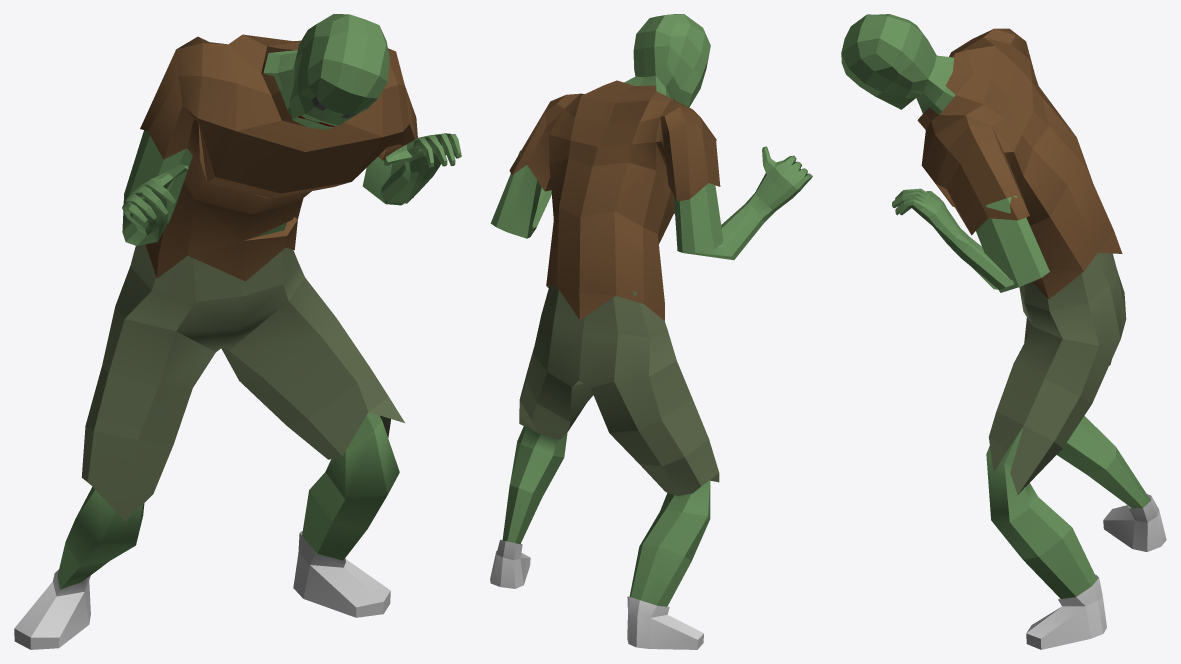
File: ZombieAttack(55).obj
3 views of the same model, side by side, from view 1: azimuth 30°, elevation 25°; view 2: azimuth 150°, elevation 25°; view 3: azimuth 270°, elevation 25° (orthographic). The views are drawn at different scales.
Visible parts, largest first — view 1: Object001; view 2: Object001; view 3: Object001.
Part boxes in pixels (<box>): Object001: <box>14,14,461,649</box>; Object001: <box>490,14,812,649</box>; Object001: <box>841,14,1166,649</box>.
Bounding box in the file's own units: 26.81 × 50.34 × 25.6.
